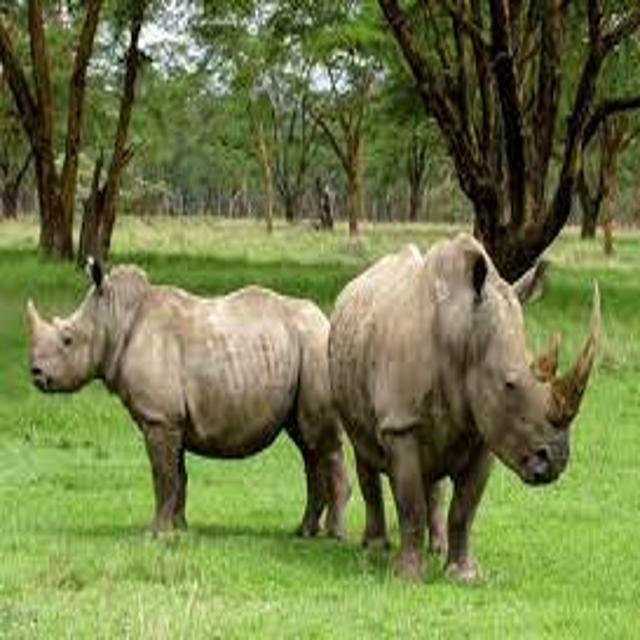Rinoceros: (323, 181, 608, 584), (16, 244, 358, 556)
